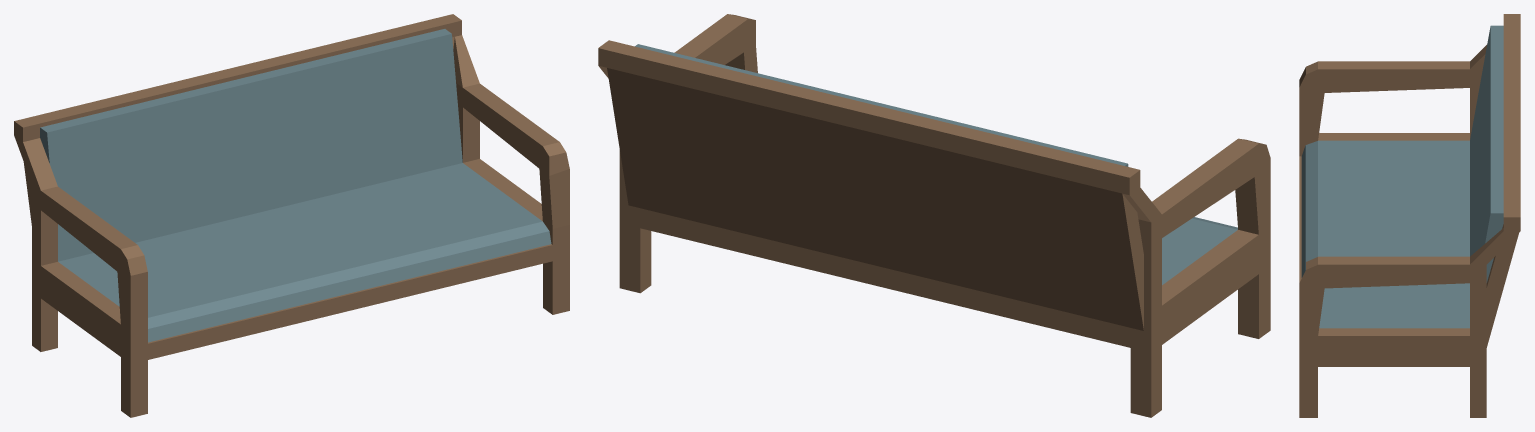
Rendered from Couch2.fbx.
3 views of the same model, side by side, from view 1: azimuth 30°, elevation 25°; view 2: azimuth 150°, elevation 25°; view 3: azimuth 270°, elevation 25° (orthographic). The views are drawn at different scales.
Visible parts, largest first — view 1: Plane; view 2: Plane; view 3: Plane.
Boxes of the visible parts, <box> form: Plane: <box>14,14,569,417</box>; Plane: <box>598,14,1270,417</box>; Plane: <box>1299,14,1520,417</box>.
Bounding box in the file's own units: 513 × 236 × 236.
